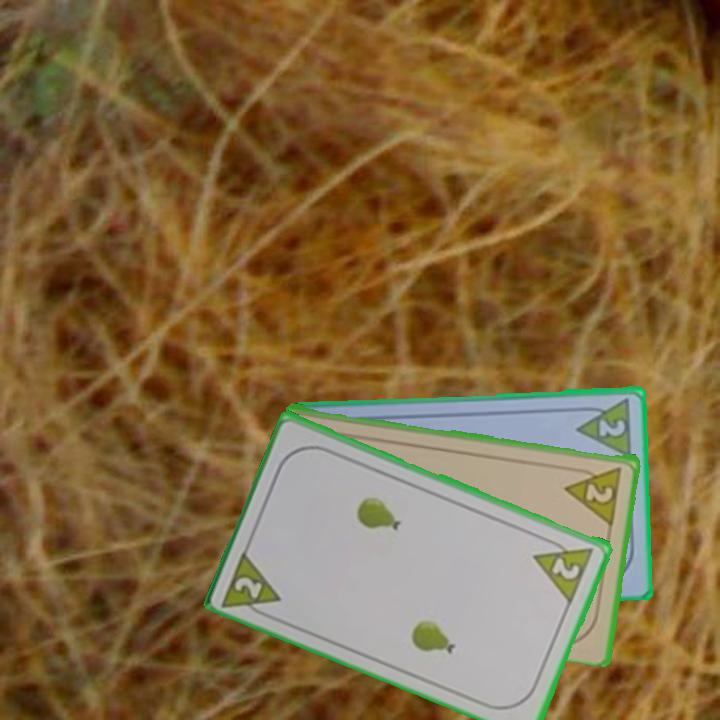2p: (219, 545, 286, 621), (530, 532, 597, 605), (573, 394, 635, 459), (562, 462, 625, 525)
